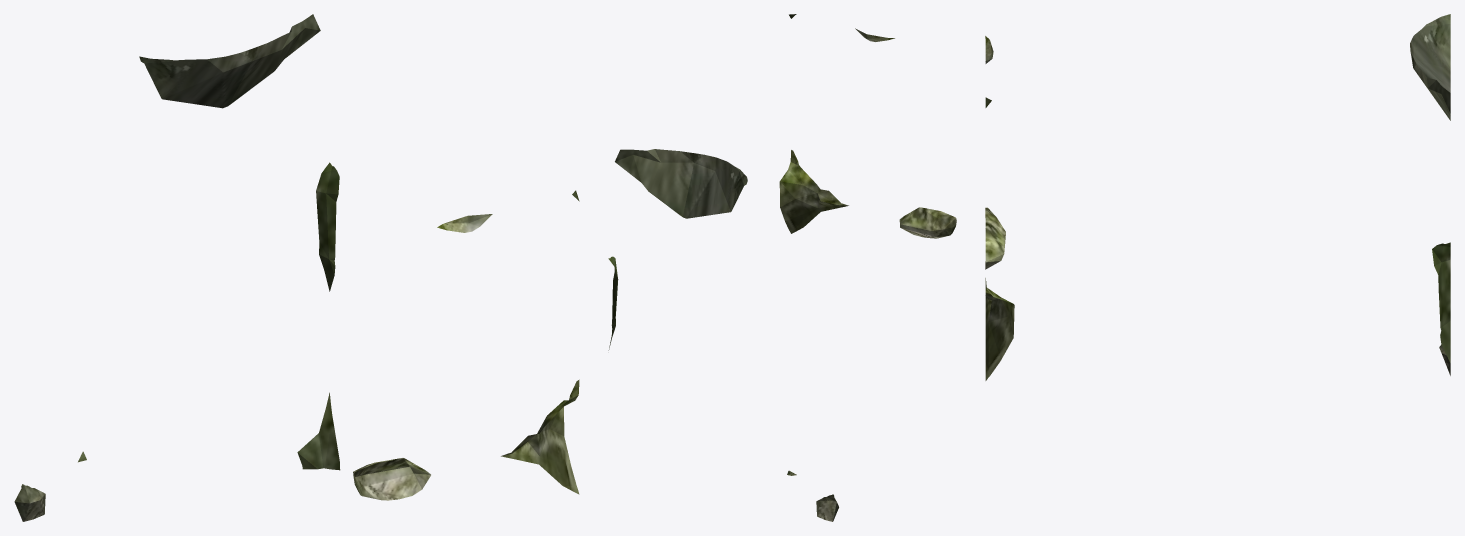
3 views of the same model, side by side, from view 1: azimuth 30°, elevation 25°; view 2: azimuth 150°, elevation 25°; view 3: azimuth 270°, elevation 25° (orthographic). The views are drawn at different scales.
Size of the model in its own units: 2.15 by 2.95 by 2.95.
Materials: 1 (1 with a texture image).
